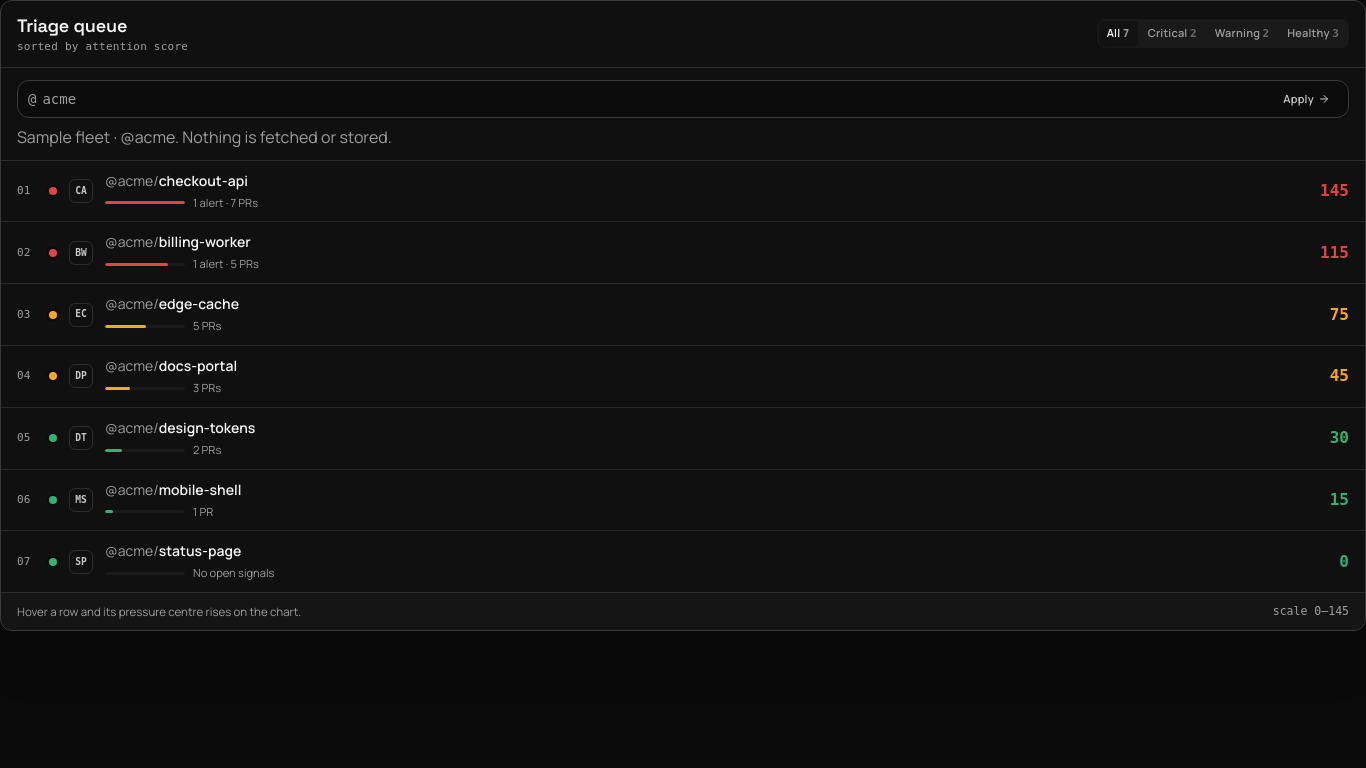
it: promo queue card › keeps the last applied handle and explains an invalid one
In the field named "Preview the queue for a GitHub account": point(656, 99) left=42, top=81, right=1269, bottom=117, type "octocat"
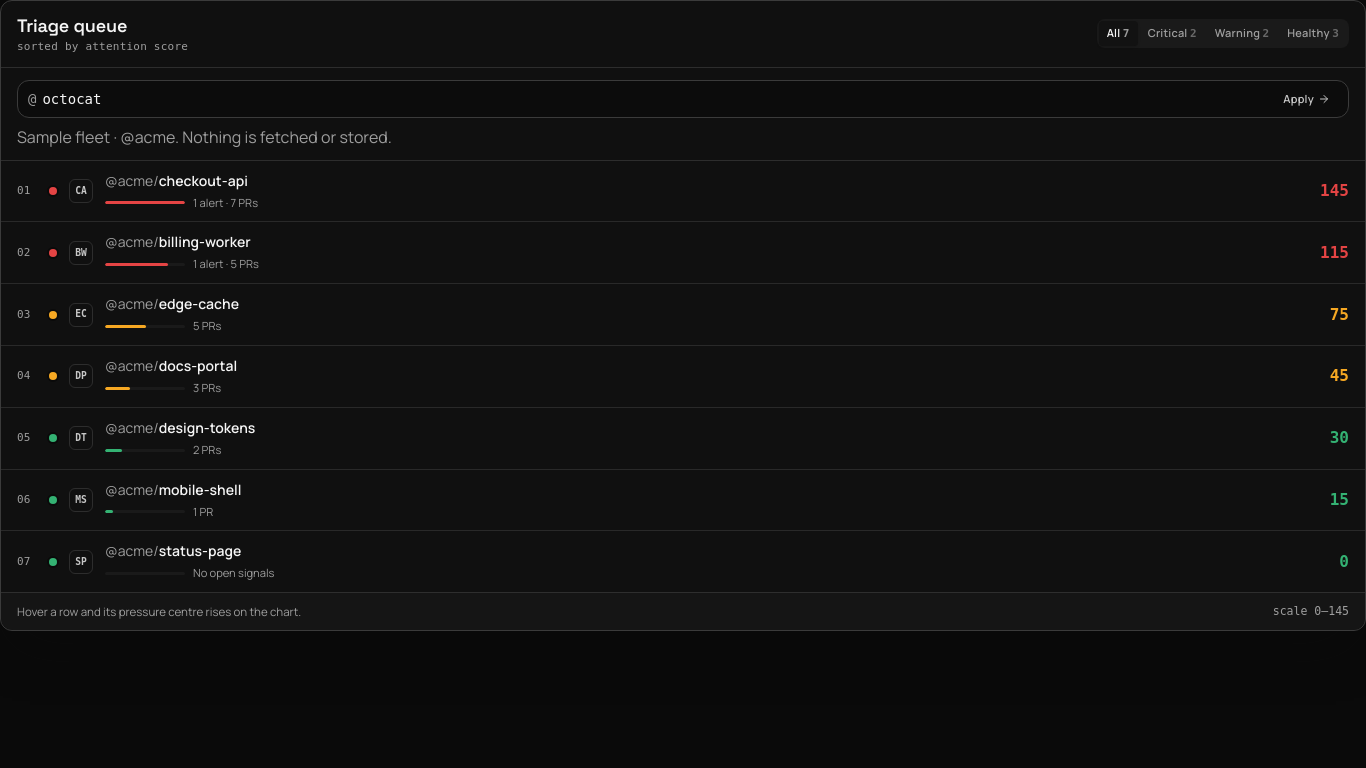
Submit the form named "Preview the queue for a GitHub account", box left=1, top=68, right=1365, bottom=161
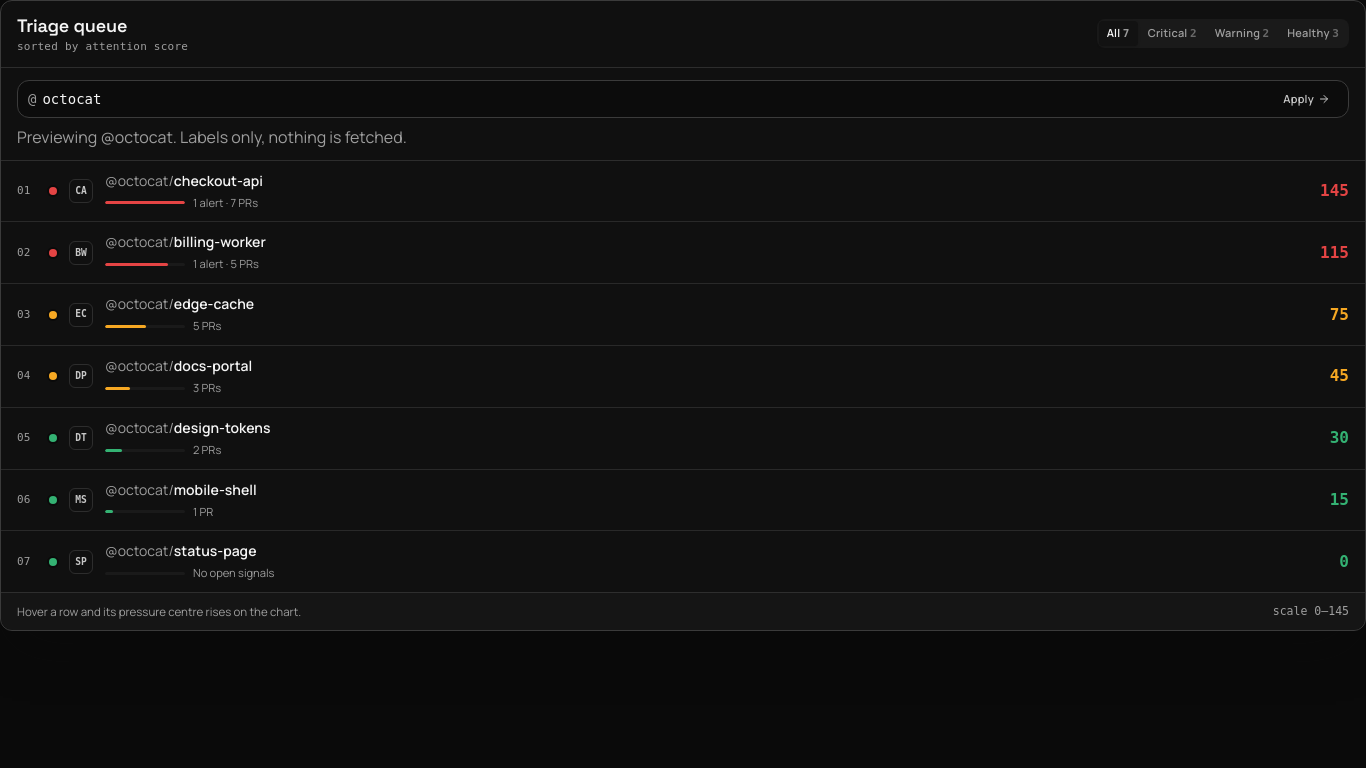
Replace the text in the field named "Preview the queue for a GitHub account" with "not a handle": point(656, 99) left=42, top=81, right=1269, bottom=117
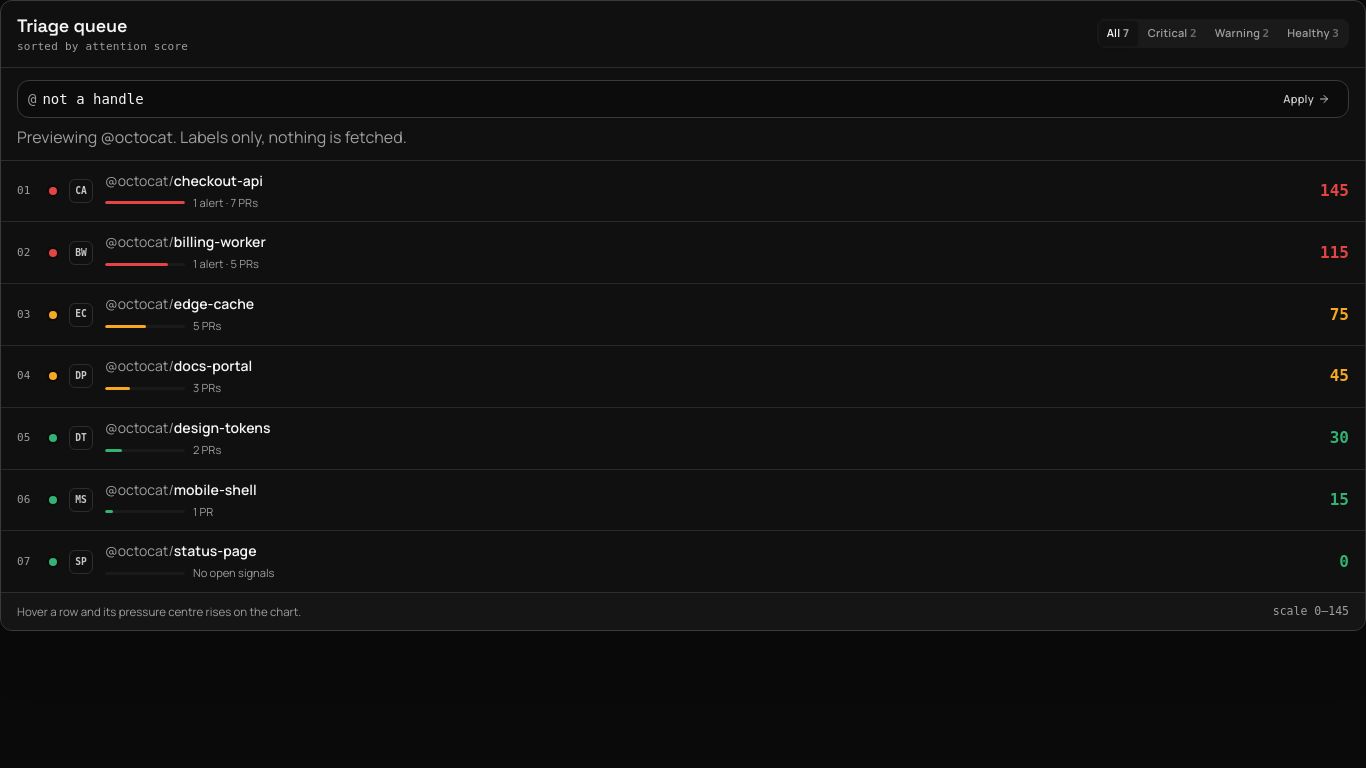
Submit the form named "Preview the queue for a GitHub account", box left=1, top=68, right=1365, bottom=161
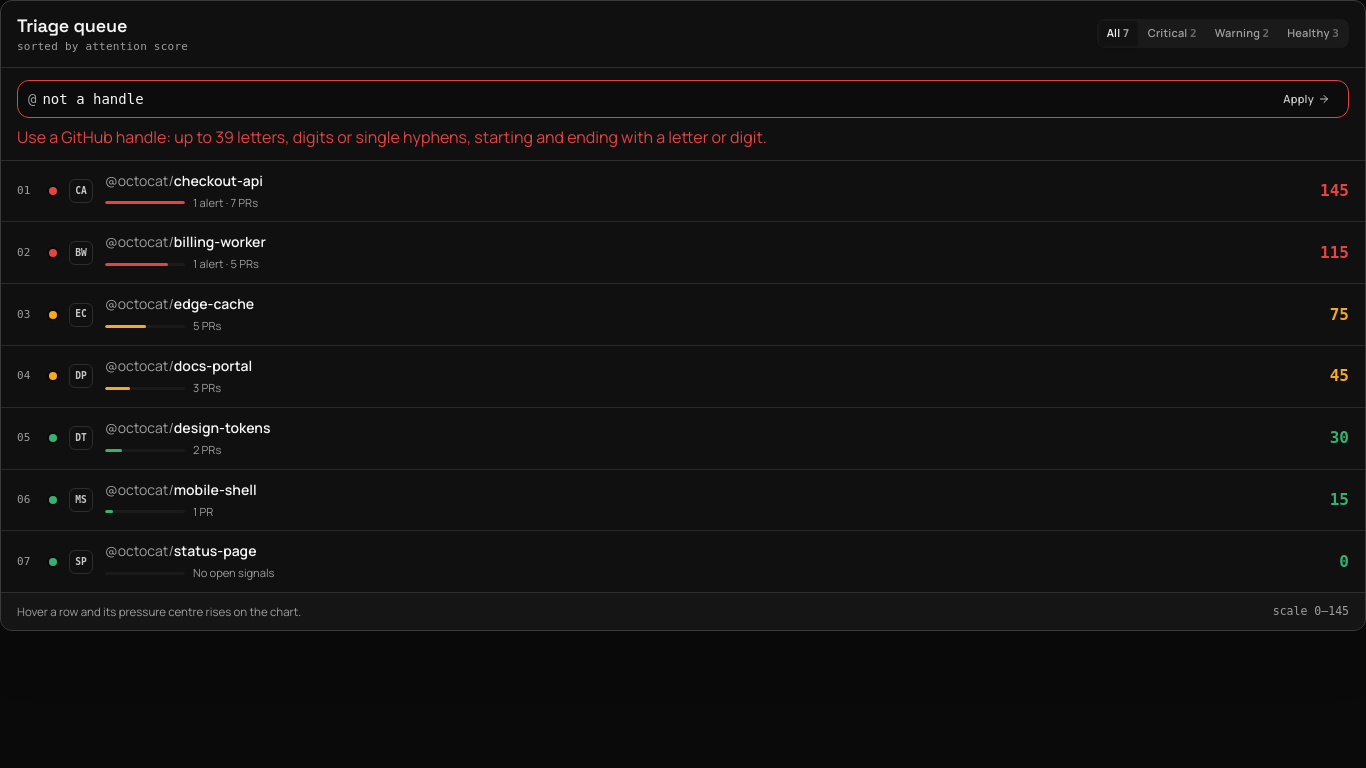
expect the text "@octocat/checkout-api" is shown: met, box left=105, top=171, right=263, bottom=190
expect the text "Use a GitHub handle: up to 39 letters, digits or single hyphens, starting and ending with a letter or digit." is shown: met, box left=17, top=126, right=767, bottom=148
